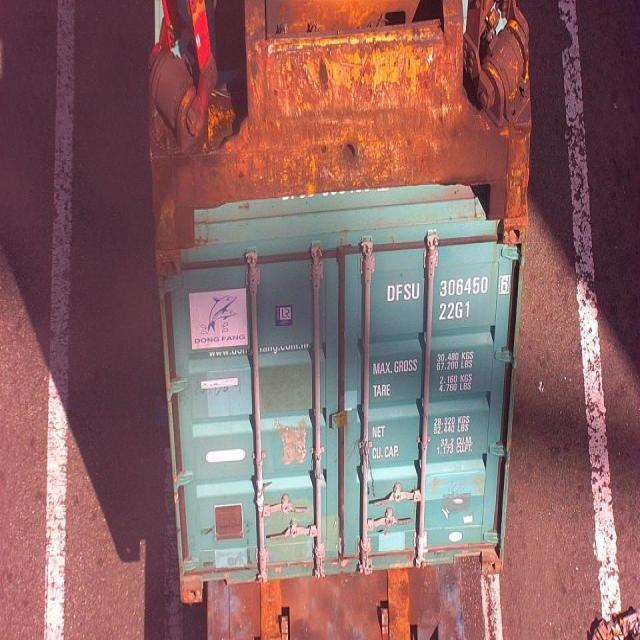ISO: (436, 301, 470, 321)
container_number: (384, 270, 512, 300)
